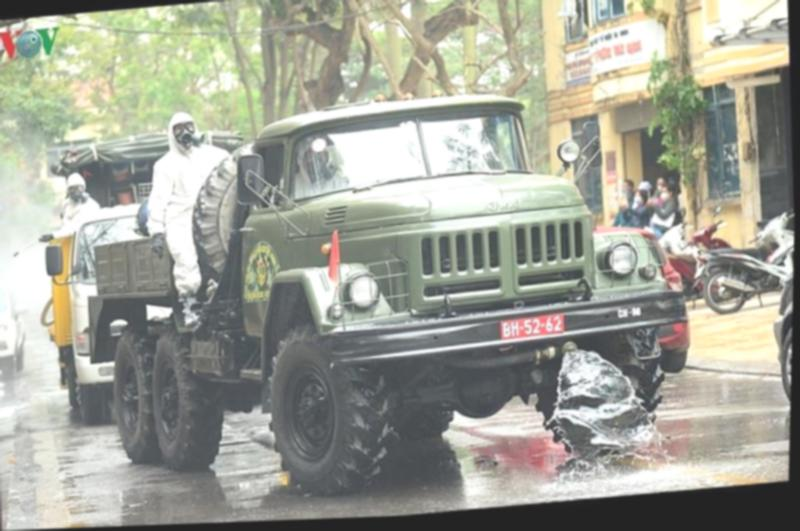License_Plate: (499, 309, 576, 351)
